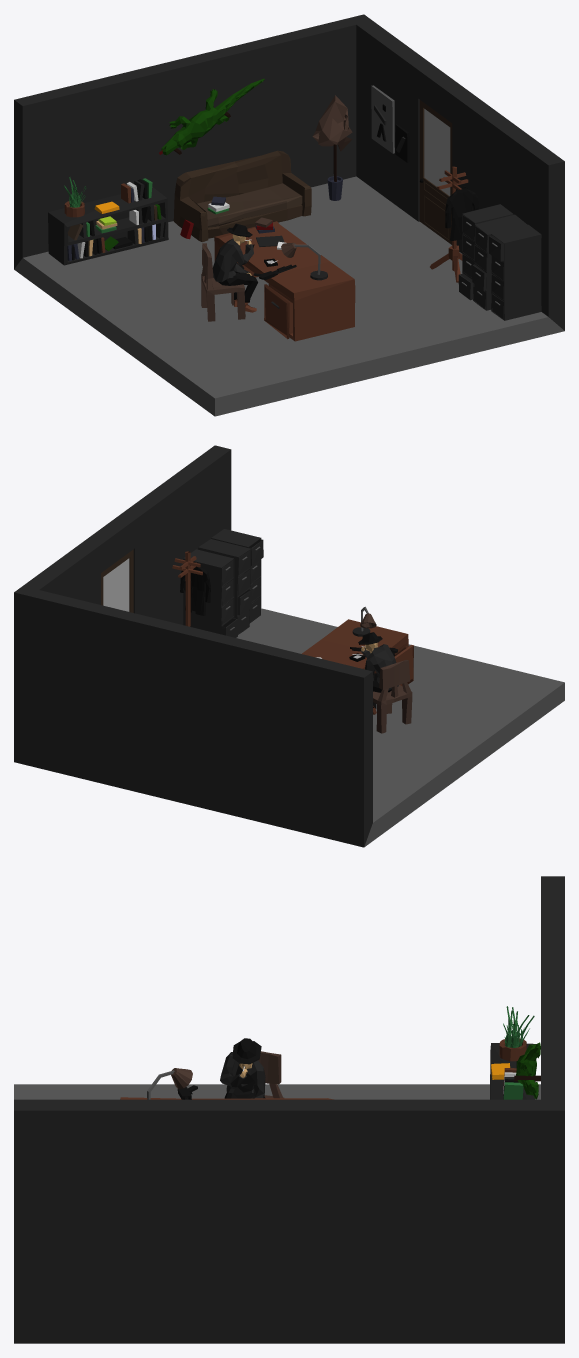
File: Detective_Seperated.FBX
The picture shows the model from 3 angles, top to bottom: view 1: azimuth 30°, elevation 25°; view 2: azimuth 150°, elevation 25°; view 3: azimuth 270°, elevation 25°; orthographic projection. The views are drawn at different scales.
Parts seen in each view (by area): view 1: Base, Detective, Desk, Bookshell, Character, Corocodile, Capboard, Chair, Paintings, Flower; view 2: Base, Detective, Capboard, Desk, Chair, Character, Paintings; view 3: Base, Character, Flower, Corocodile, Detective, Chair, Bookshell.
Part boxes in pixels (box(x1,y1,x2,y2)): Base: box(14, 14, 564, 416); Detective: box(67, 85, 541, 339); Desk: box(214, 221, 355, 341); Bookshell: box(48, 187, 168, 265); Character: box(212, 223, 257, 312); Corocodile: box(159, 78, 264, 155); Capboard: box(458, 204, 513, 300); Chair: box(201, 243, 245, 321); Paintings: box(445, 186, 478, 240); Flower: box(64, 177, 86, 217); Base: box(14, 445, 564, 847); Detective: box(101, 529, 413, 686); Capboard: box(183, 549, 237, 637); Desk: box(302, 619, 408, 673); Chair: box(373, 659, 412, 733); Character: box(358, 632, 398, 714); Paintings: box(180, 561, 210, 615); Base: box(14, 876, 564, 1343); Character: box(220, 1038, 265, 1098); Flower: box(499, 1006, 534, 1061); Corocodile: box(514, 1042, 540, 1099); Detective: box(242, 1063, 523, 1099); Chair: box(258, 1051, 283, 1098); Bookshell: box(490, 1043, 536, 1099).
Size of what is drawn, in the model's own units: 1.41 by 0.6539 by 1.4.
